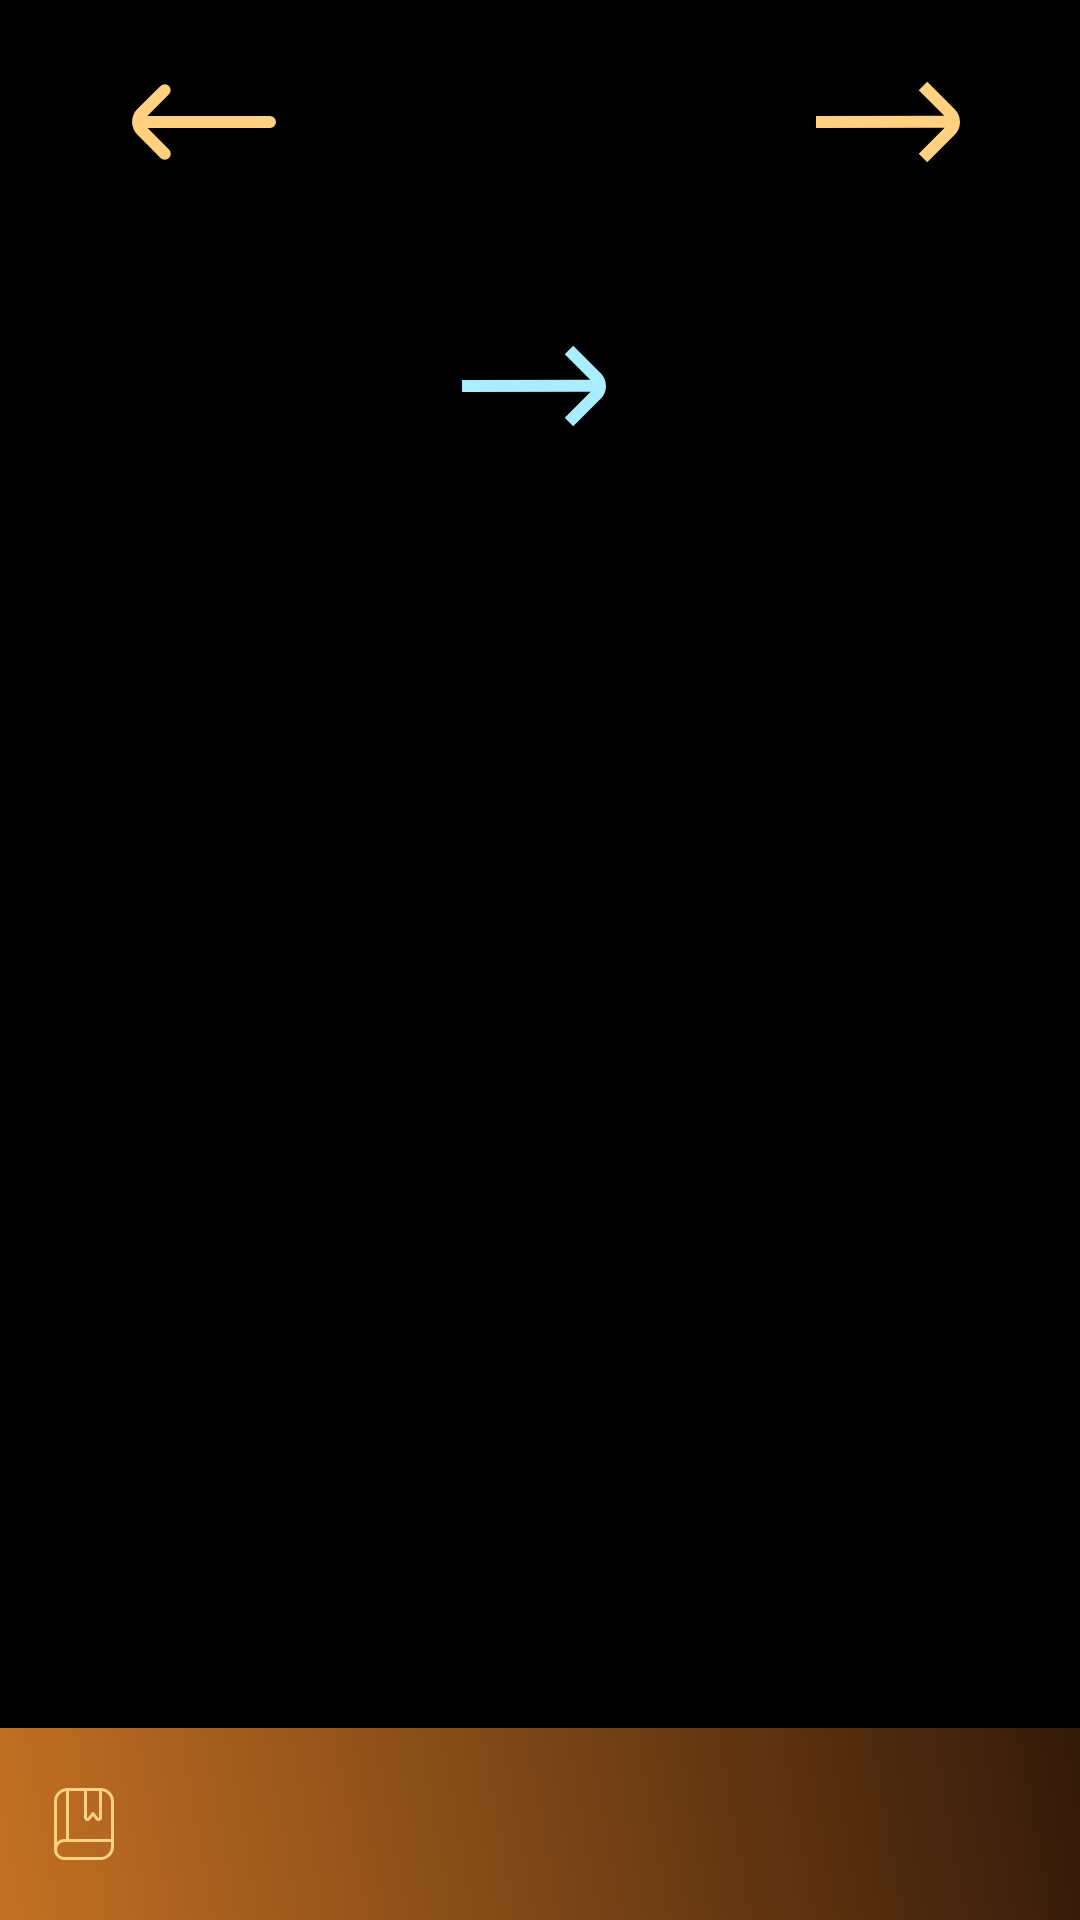

Point at icon controls on the screen. Image size 1080×1920, points as (x=x, y=y).
arrow left: (x=204, y=122)
arrow right: (x=888, y=122), (x=534, y=386)
